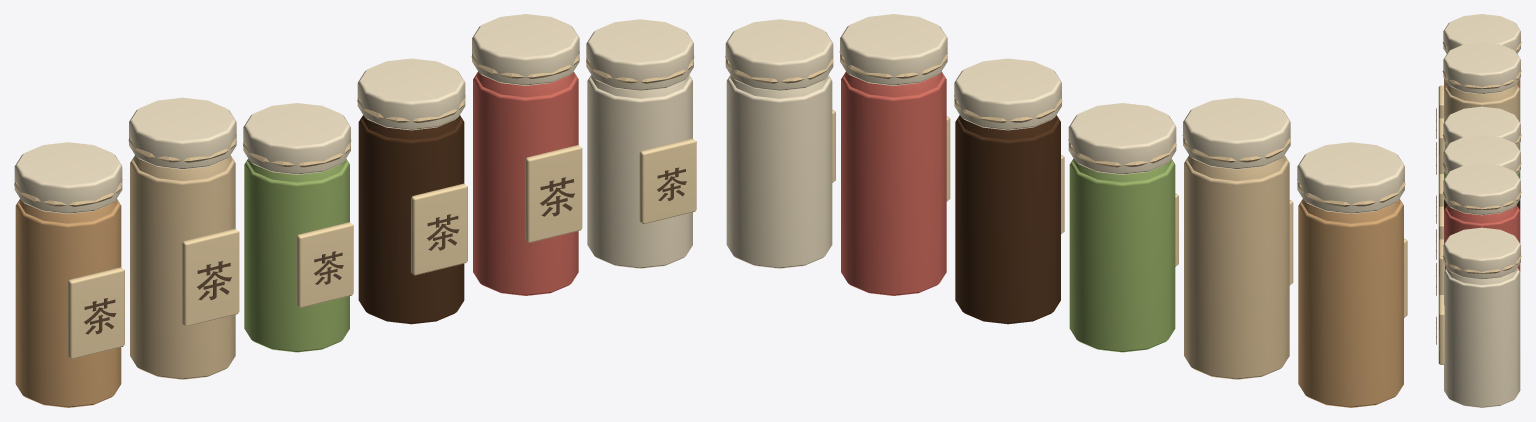
File: ingredient_jars.fbx
The picture shows the model from 3 angles, left to right: view 1: azimuth 30°, elevation 25°; view 2: azimuth 150°, elevation 25°; view 3: azimuth 270°, elevation 25°; orthographic projection. The views are drawn at different scales.
Visible parts, largest first — view 1: ingredient_jars; view 2: ingredient_jars; view 3: ingredient_jars.
Part boxes in pixels (x1,y1,x2,y2): ingredient_jars: (14, 14, 696, 407); ingredient_jars: (725, 14, 1407, 407); ingredient_jars: (1436, 14, 1521, 407).
Bounding box in the file's own units: 0.5246 × 0.1808 × 0.0806.
